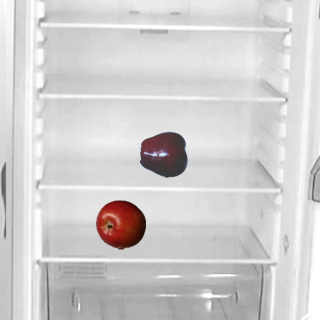Apple Braeburn: (95, 199, 145, 249)
Apple Red Delicious: (139, 129, 189, 179)
